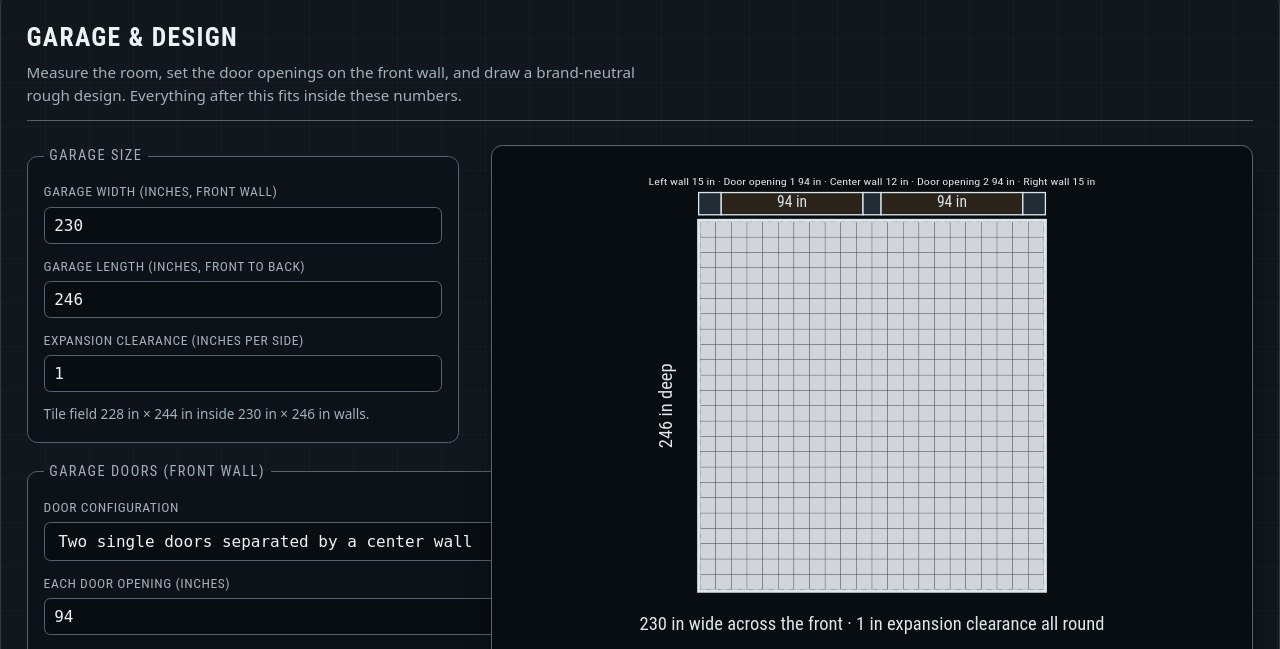
Test: GuidedPlanner garage defaults › keeps the front consistent when a door opening is widened
Step 1. Replace the text in the field labelled "Each door opening (inches)" with "100" → (276, 616), box [44, 598, 509, 635]
(page scrolled)
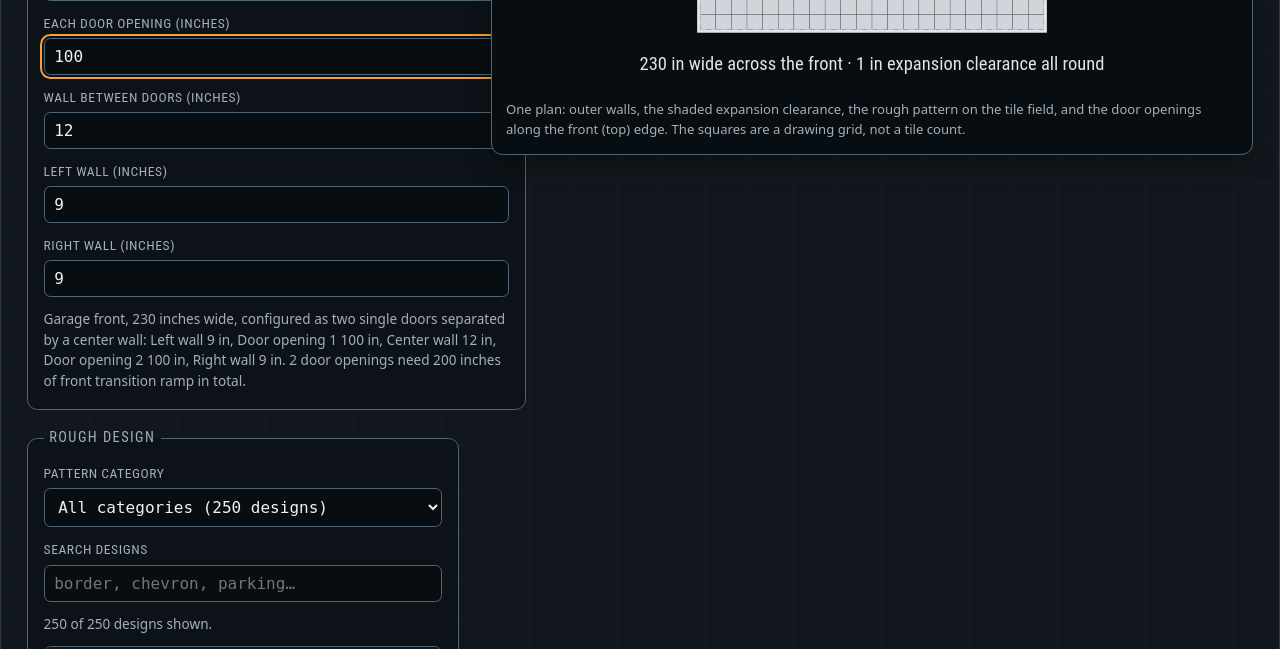
Now the field labelled "Left wall (inches)" holds "9", box [44, 186, 509, 223]
Now the text with test id "planner-front-summary" shows "200 inches of front", box [44, 310, 505, 390]
